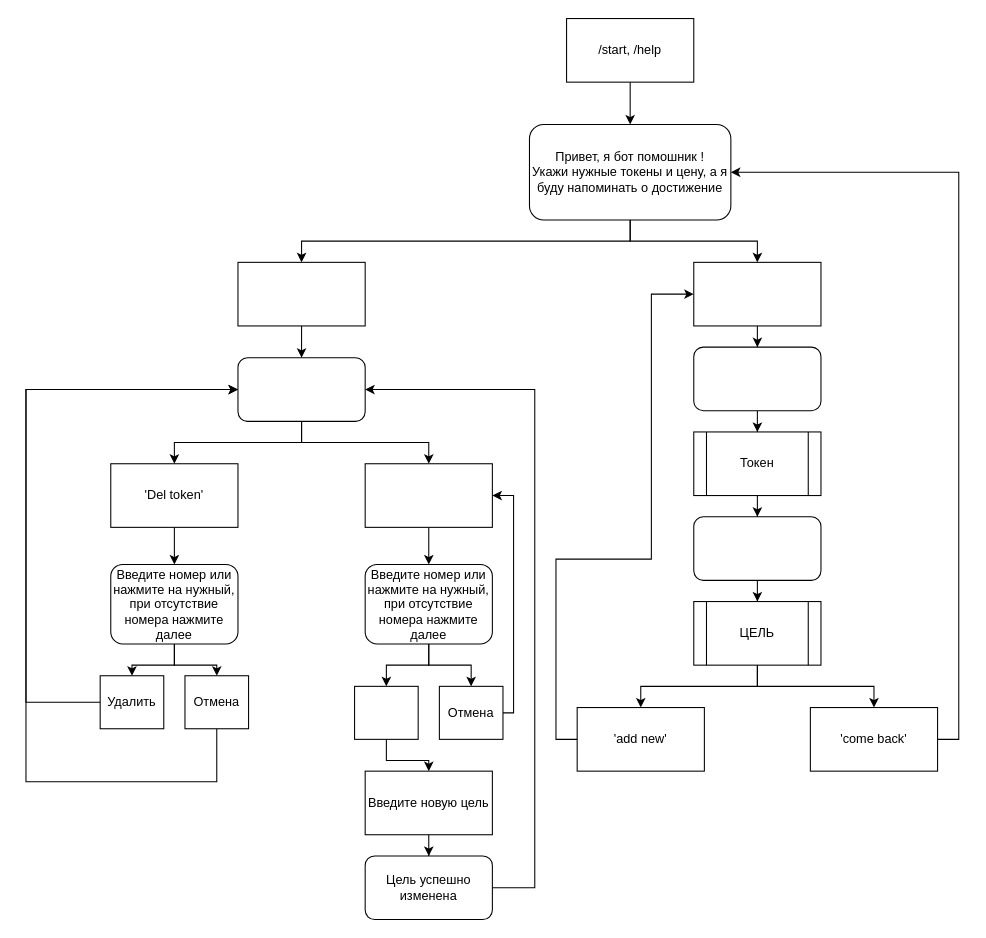
The diagram is 986 pixels wide and 938 high, and some of its shapes have lost their labels. Each missing label, with the centre of its shape:
'add token': the point at 757,293
'change target': the point at 428,495
'Token list': the point at 301,293
Введите токен: the point at 757,378
Введите цель: the point at 757,548
Вывод листа токенов и их целей: the point at 301,389
Далее: the point at 386,712
